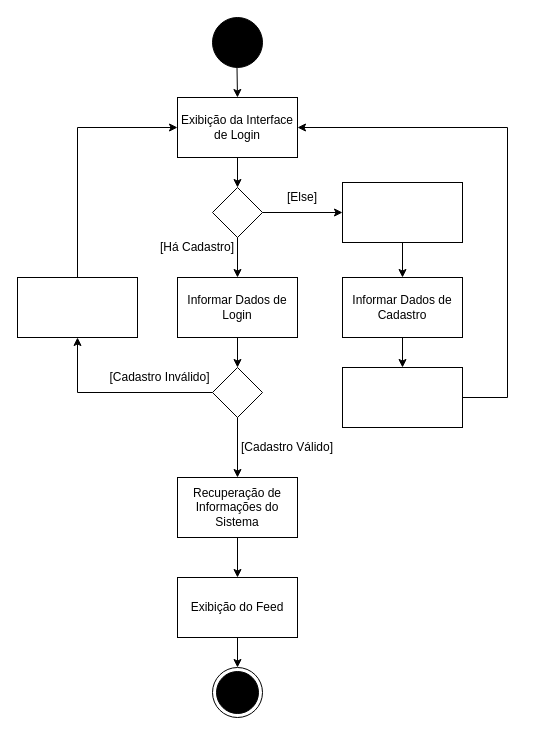
This 533x735 diagram has some shape labels left out. The shapes that lost their labels are listed below. From the top down, each one's centre as x and y in pixels, then its label:
(402,212): Exibição da Interface de Cadastro
(77,307): Emissão de Mensagem de Erro
(402,397): Registro dos Dados no Sistema
